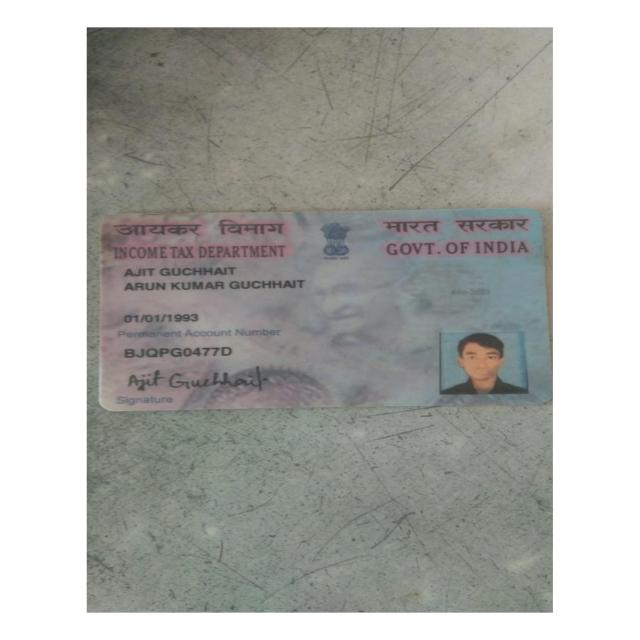pan_card: (97, 208, 548, 410)
